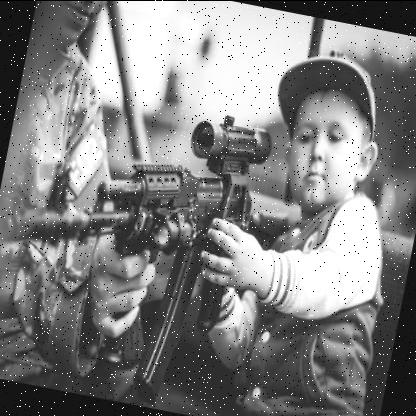rifle: (0, 83, 295, 411)
